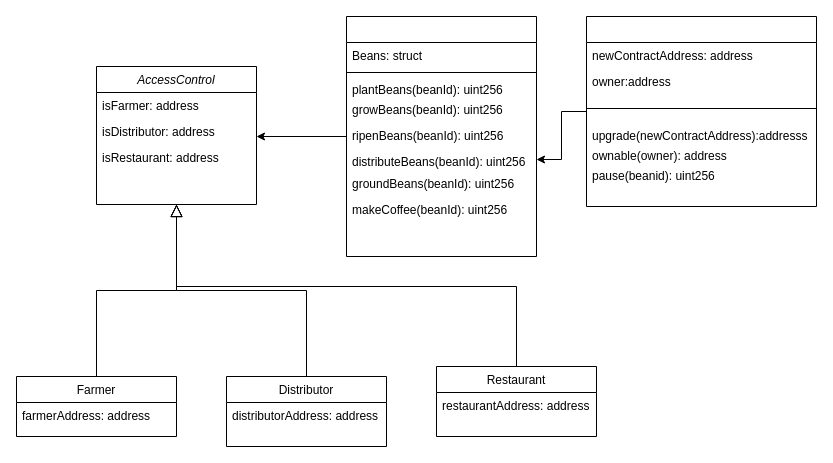
This 833x463 diagram has some shape labels left out. Each missing label, with the box of its shape:
Base: (346, 16, 536, 256)
Core: (586, 16, 816, 206)
